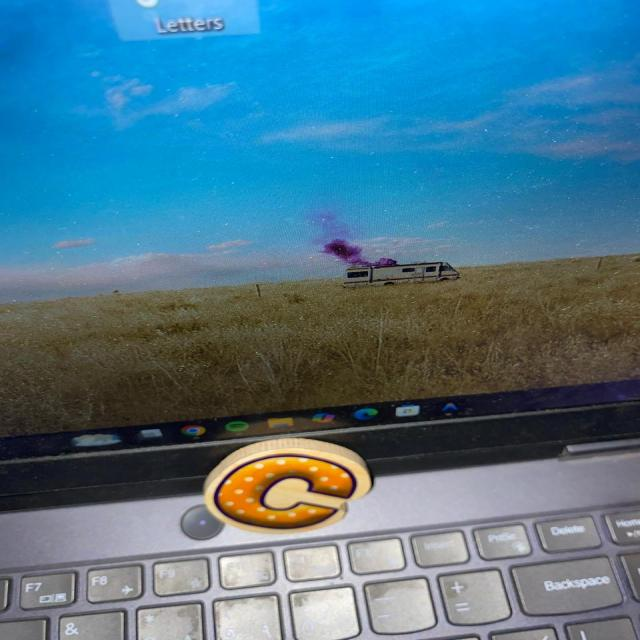C: (204, 438, 371, 532)
